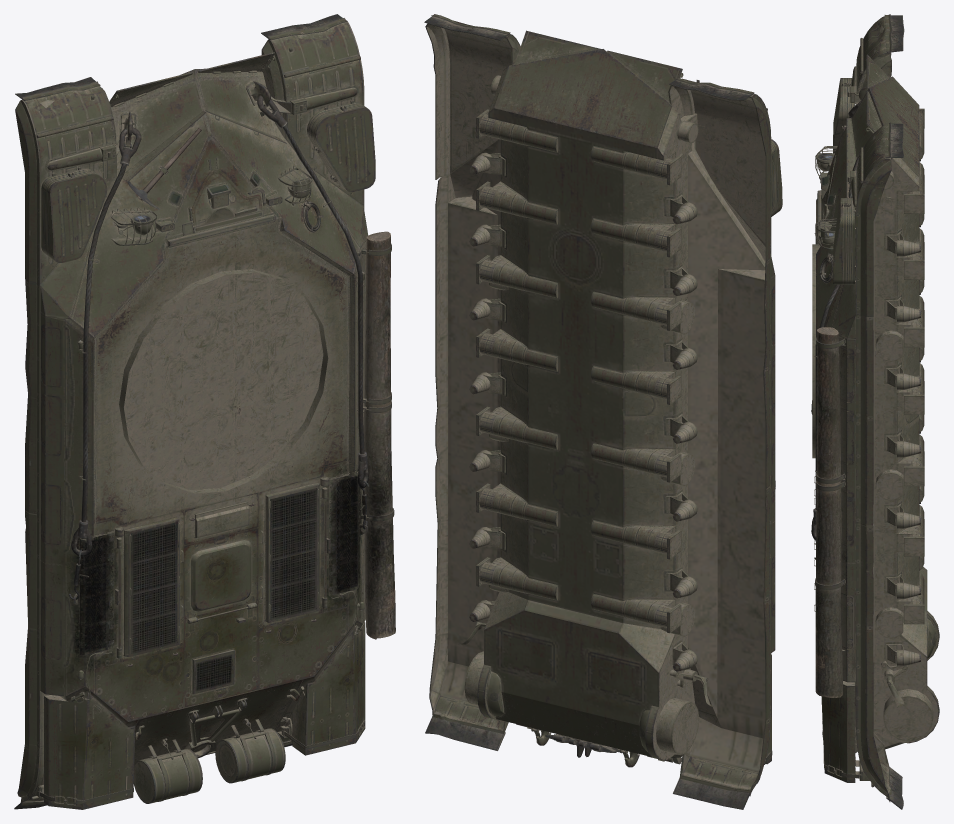
The model's file is Hull.glb.
The picture shows the model from 3 angles, left to right: view 1: azimuth 30°, elevation 25°; view 2: azimuth 150°, elevation 25°; view 3: azimuth 270°, elevation 25°; orthographic projection. The views are drawn at different scales.
Parts seen in each view (by area): view 1: set_0_group_0; view 2: set_0_group_0; view 3: set_0_group_0.
Boxes of the visible parts, x1,y1,x2,y2 form: set_0_group_0: (14,14,395,809); set_0_group_0: (424,14,782,809); set_0_group_0: (811,14,939,809).
Size of the model in its own units: 3.64 by 7.25 by 1.29.
Materials: 1 (1 with a texture image).
